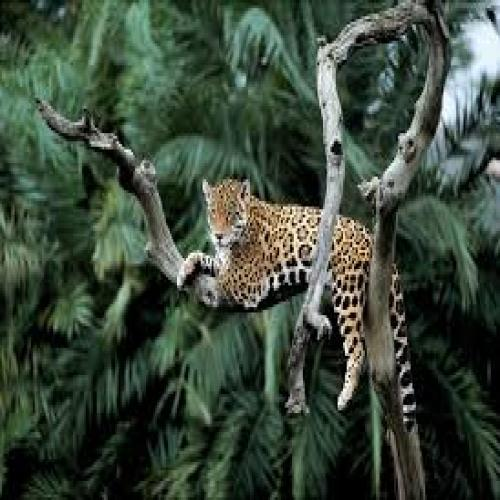jaguar_not-endangered: (193, 180, 396, 406)
